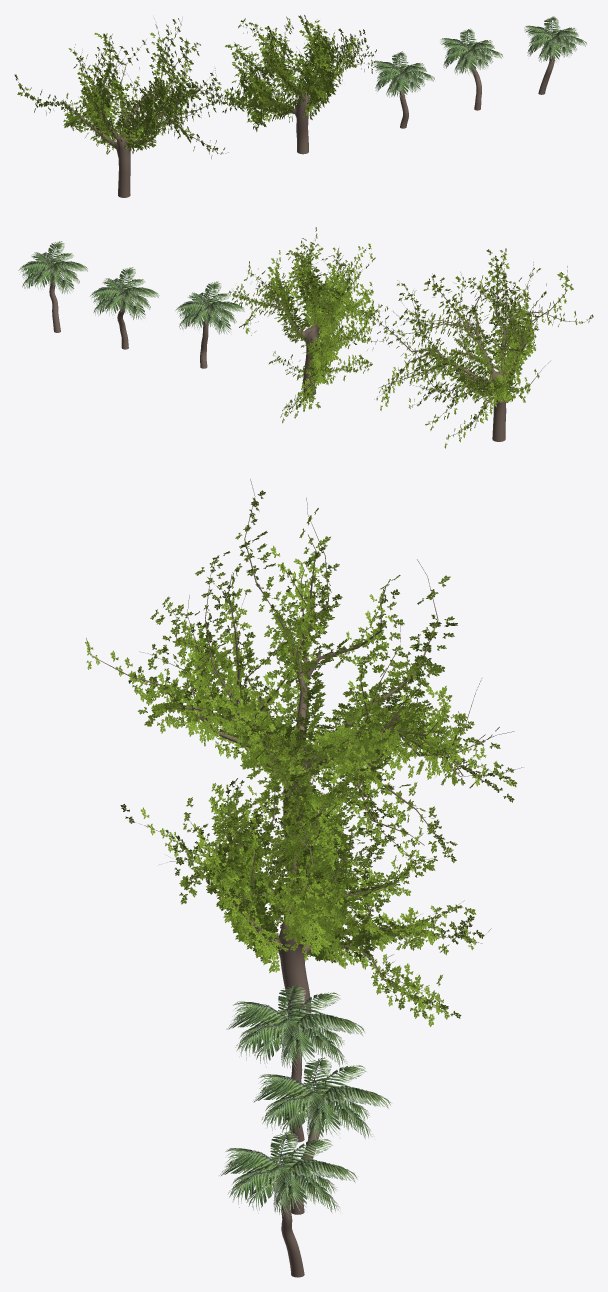
File: trees.fbx
The picture shows the model from 3 angles, top to bottom: view 1: azimuth 30°, elevation 25°; view 2: azimuth 150°, elevation 25°; view 3: azimuth 270°, elevation 25°; orthographic projection. The views are drawn at different scales.
Parts seen in each view (by area): view 1: Plane.025, Plane.005, tree.001, Plane.004, Plane.018, Plane.003, tree, tree.002, tree.004; view 2: Plane.025, Plane.005, tree.001, Plane.003, Plane.018, Plane.004, tree, tree.004, tree.003; view 3: Plane.025, Plane.005, Plane.004, Plane.003, Plane.018, tree.001, tree.
Boxes of the visible parts, x1,y1,x2,y2 form: Plane.025: (14, 18, 225, 158); Plane.005: (209, 15, 376, 131); tree.001: (16, 17, 228, 197); Plane.004: (372, 51, 434, 98); Plane.018: (440, 28, 503, 76); Plane.003: (524, 16, 586, 62); tree: (216, 19, 377, 154); tree.002: (469, 50, 481, 110); tree.004: (538, 37, 554, 94); Plane.025: (369, 248, 593, 448); Plane.005: (229, 227, 388, 423); tree.001: (369, 248, 592, 441); Plane.003: (18, 241, 87, 293); Plane.018: (89, 267, 159, 319); Plane.004: (175, 281, 244, 334); tree: (232, 242, 382, 412); tree.004: (49, 268, 60, 332); tree.003: (200, 305, 210, 368); Plane.025: (85, 490, 517, 890); Plane.005: (120, 715, 491, 1026); Plane.004: (226, 984, 365, 1071); Plane.003: (219, 1131, 358, 1216); Plane.018: (253, 1057, 390, 1140); tree.001: (86, 479, 523, 890); tree: (129, 721, 482, 1044).
Bounding box in the file's own units: 17014 × 5125 × 6084.
